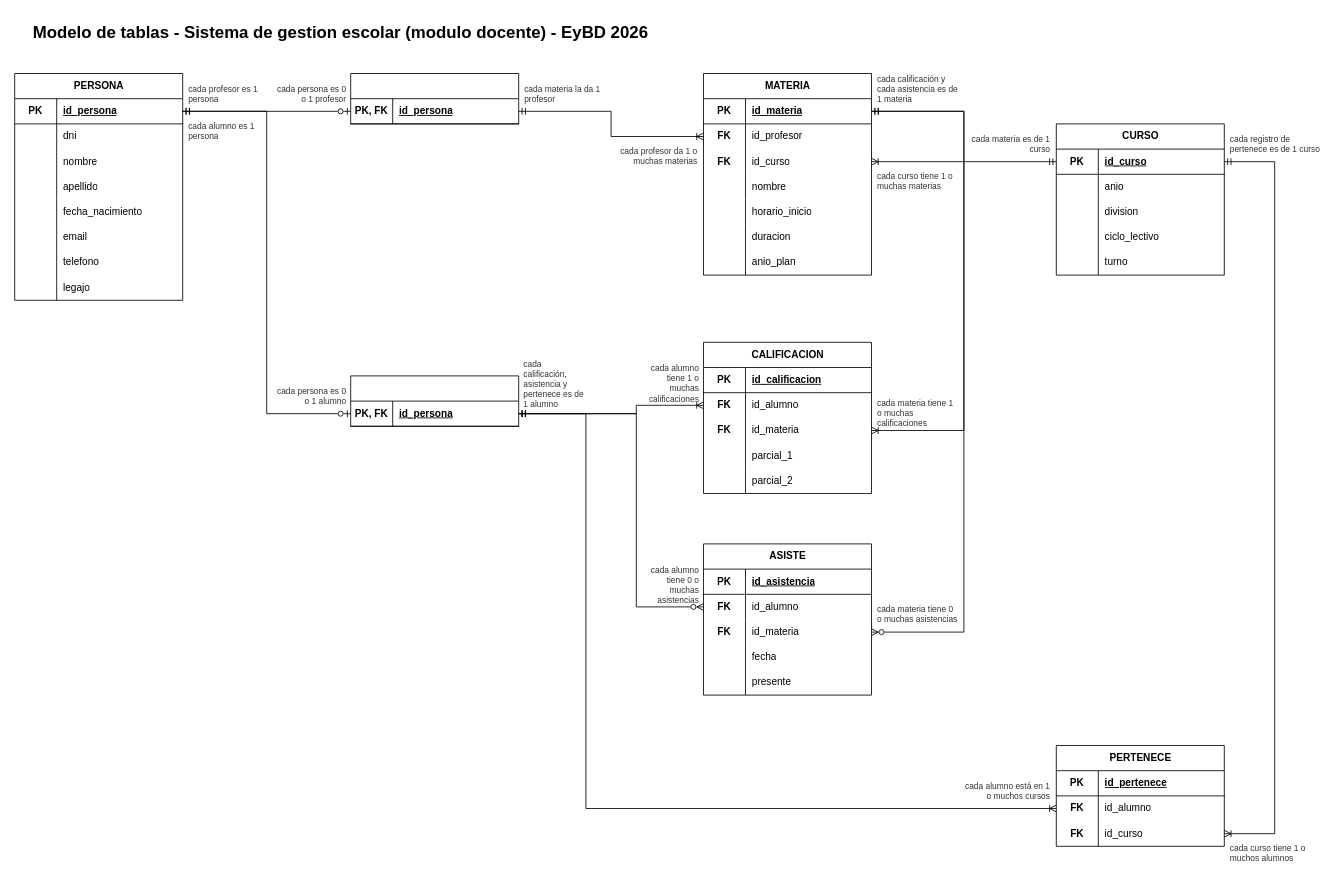
Image size: 1336x882. Some labels were removed from this diagram. The box of each missing label's shape, as (x1, y1, x2, y2) in pixels:
ALUMNO: (350, 375, 519, 426)
PROFESOR: (350, 73, 519, 124)
